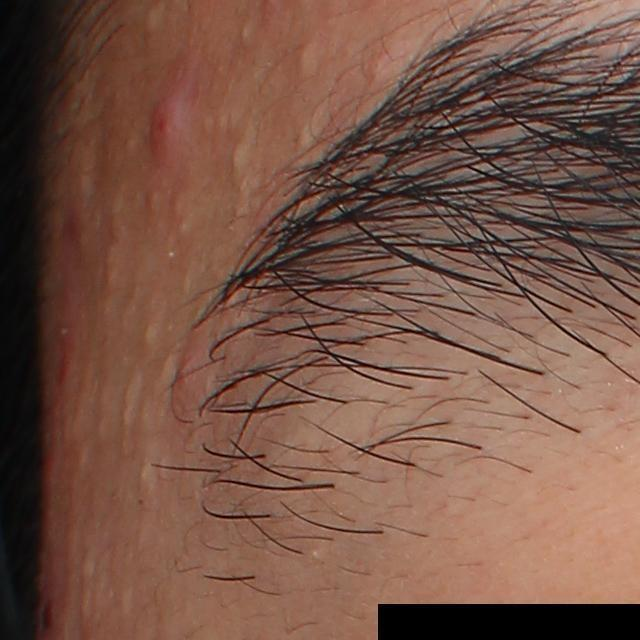comedo: (227, 131, 254, 180), (293, 39, 317, 79), (141, 1, 161, 39), (137, 320, 157, 348), (237, 23, 252, 42)
papule: (144, 89, 187, 170)
